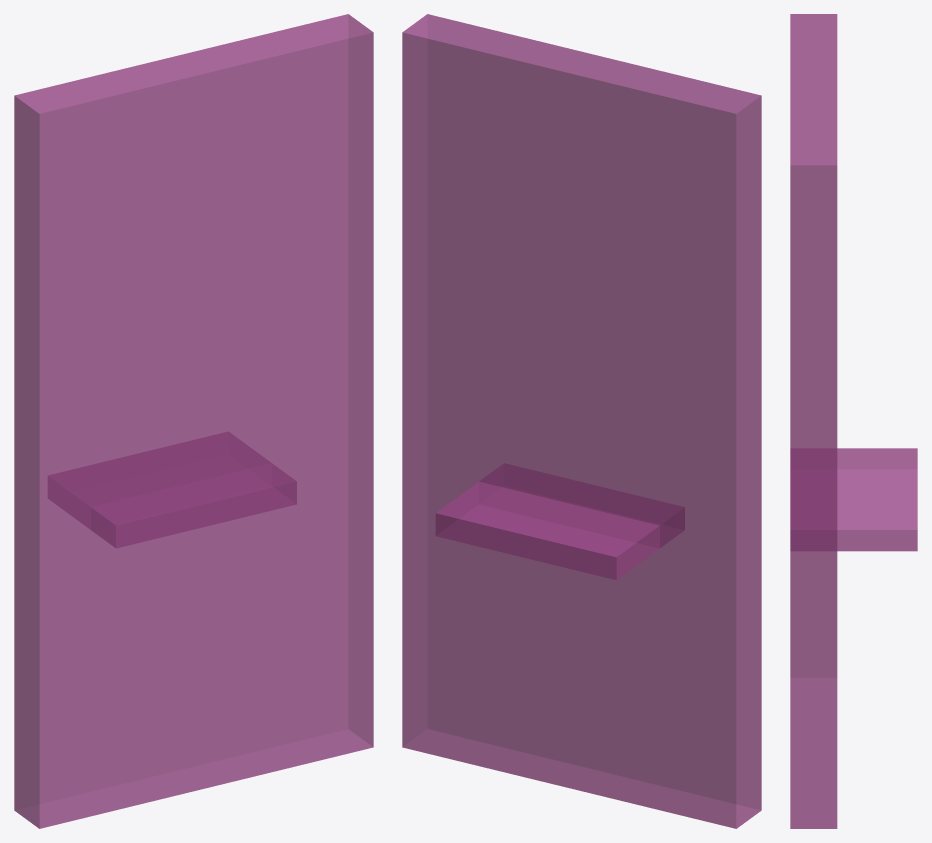
Rendered from SM_Prop_Cage_01_Door_01_Collision.fbx.
The picture shows the model from 3 angles, left to right: view 1: azimuth 30°, elevation 25°; view 2: azimuth 150°, elevation 25°; view 3: azimuth 270°, elevation 25°; orthographic projection. The views are drawn at different scales.
Visible parts, largest first — view 1: SM_Prop_Cage_01_Door_01_Collision; view 2: SM_Prop_Cage_01_Door_01_Collision; view 3: SM_Prop_Cage_01_Door_01_Collision.
Part boxes in pixels (bbox=[...]): SM_Prop_Cage_01_Door_01_Collision: bbox=[14, 14, 373, 828]; SM_Prop_Cage_01_Door_01_Collision: bbox=[402, 14, 761, 828]; SM_Prop_Cage_01_Door_01_Collision: bbox=[790, 14, 917, 828].
Size of the model in its own units: 106 by 217 by 37.62.
